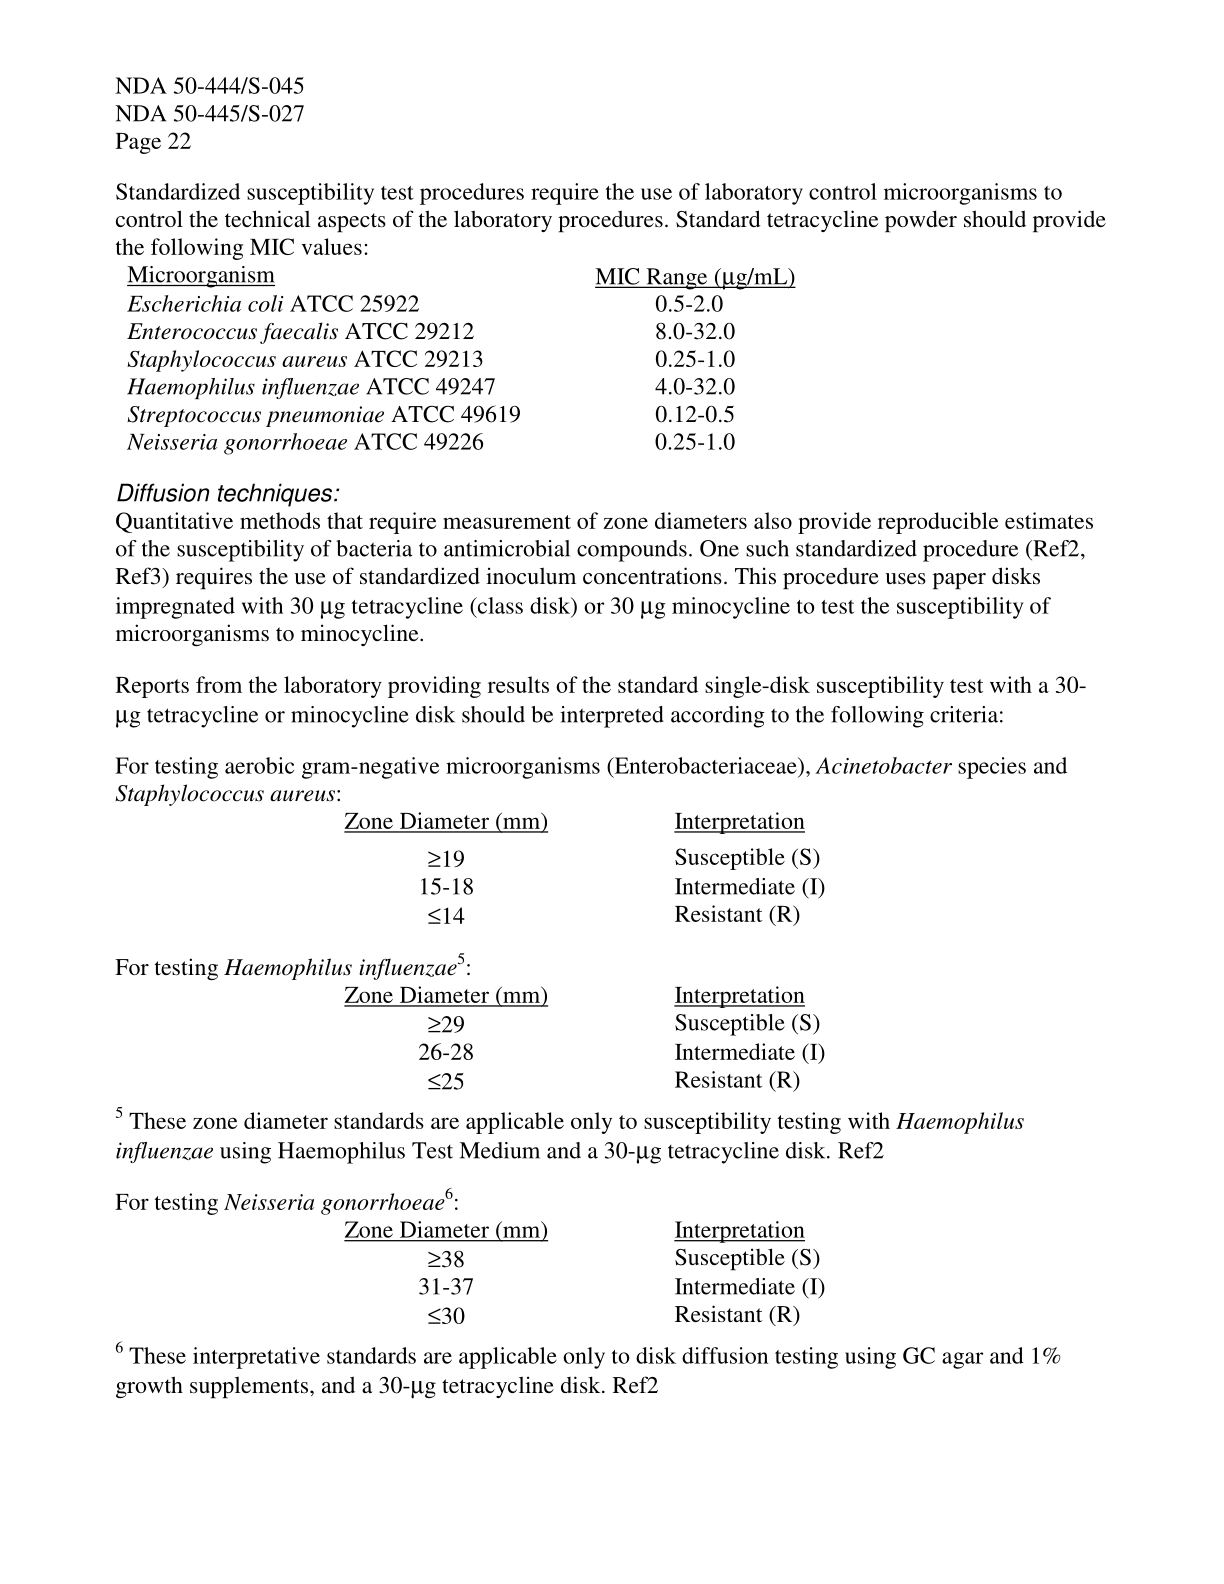nolines: (126, 264, 797, 453), (342, 809, 825, 926), (342, 1218, 824, 1326), (342, 985, 824, 1092)
